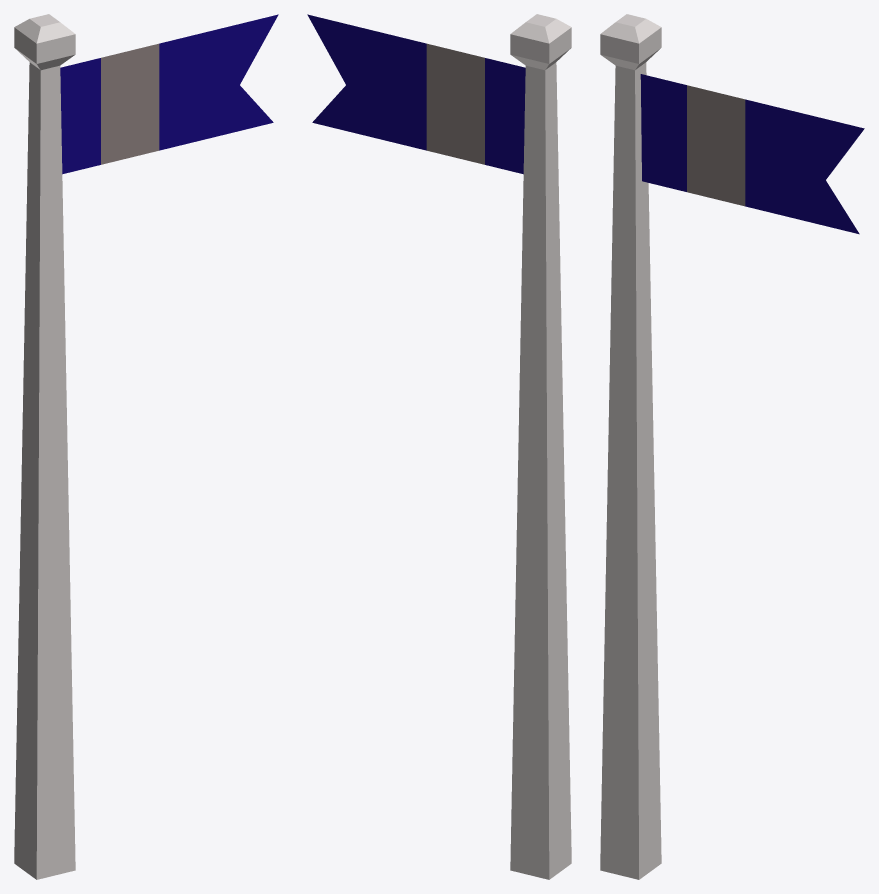
The model's file is obj_flagpole_4_0.obj.
3 views of the same model, side by side, from view 1: azimuth 30°, elevation 25°; view 2: azimuth 150°, elevation 25°; view 3: azimuth 330°, elevation 25° (orthographic).
Bounding box in the file's own units: 0.8125 × 2.59 × 0.125.
